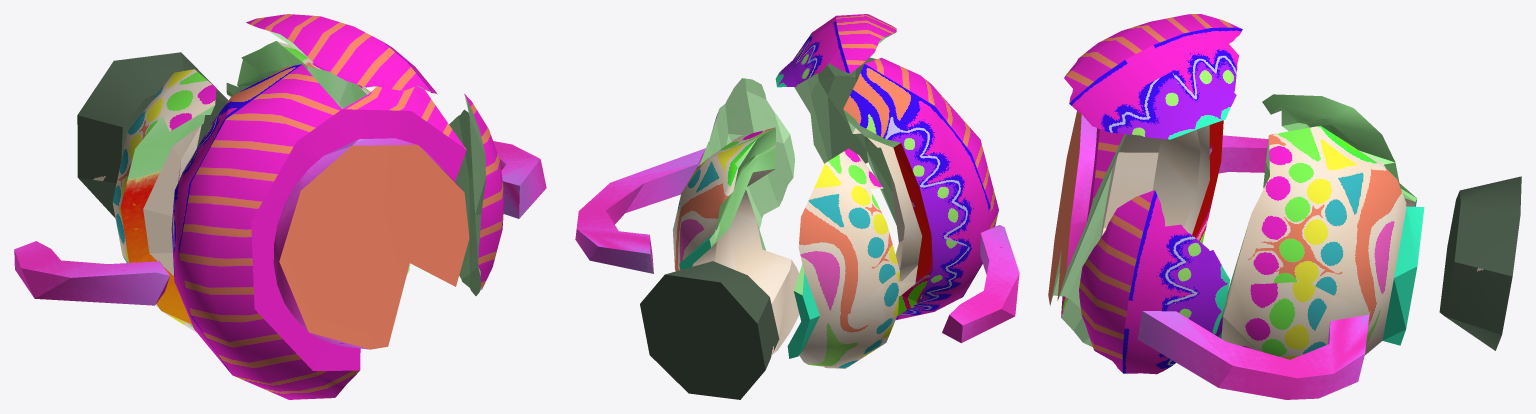
The model's file is Artifact Shards.fbx.
3 views of the same model, side by side, from view 1: azimuth 30°, elevation 25°; view 2: azimuth 150°, elevation 25°; view 3: azimuth 270°, elevation 25° (orthographic). The views are drawn at different scales.
Parts seen in each view (by area): view 1: Artifact 1.002, Artifact 1.008, Artifact 1.007, Artifact 1.005, Artifact 1.003, Artifact 1.004, Artifact 1.006, Artifact 1.001; view 2: Artifact 1.002, Artifact 1.008, Artifact 1.007, Artifact 1.006, Artifact 1.001, Artifact 1.004, Artifact 1.005, Artifact 1.003; view 3: Artifact 1.006, Artifact 1.002, Artifact 1.005, Artifact 1.004, Artifact 1.001, Artifact 1.007, Artifact 1.008, Artifact 1.003.
Part boxes in pixels (x1=…): Artifact 1.002: x1=171, y1=64, x2=469, y2=399; Artifact 1.008: x1=112, y1=69, x2=216, y2=332; Artifact 1.007: x1=77, y1=52, x2=228, y2=218; Artifact 1.005: x1=246, y1=14, x2=437, y2=94; Artifact 1.003: x1=14, y1=241, x2=169, y2=305; Artifact 1.004: x1=449, y1=93, x2=504, y2=295; Artifact 1.006: x1=226, y1=41, x2=410, y2=274; Artifact 1.001: x1=493, y1=141, x2=546, y2=218; Artifact 1.002: x1=794, y1=57, x2=998, y2=319; Artifact 1.008: x1=787, y1=148, x2=899, y2=368; Artifact 1.007: x1=640, y1=261, x2=779, y2=399; Artifact 1.006: x1=673, y1=127, x2=799, y2=353; Artifact 1.001: x1=575, y1=148, x2=705, y2=273; Artifact 1.004: x1=699, y1=78, x2=794, y2=228; Artifact 1.005: x1=775, y1=14, x2=896, y2=87; Artifact 1.003: x1=942, y1=225, x2=1019, y2=343; Artifact 1.006: x1=1214, y1=125, x2=1424, y2=359; Artifact 1.002: x1=1048, y1=111, x2=1223, y2=347; Artifact 1.005: x1=1064, y1=14, x2=1242, y2=139; Artifact 1.004: x1=1079, y1=190, x2=1230, y2=374; Artifact 1.001: x1=1138, y1=311, x2=1369, y2=399; Artifact 1.007: x1=1439, y1=176, x2=1521, y2=350; Artifact 1.008: x1=1262, y1=94, x2=1417, y2=206; Artifact 1.003: x1=1218, y1=135, x2=1268, y2=173.
Bounding box in the file's own units: 358 × 244 × 301.
